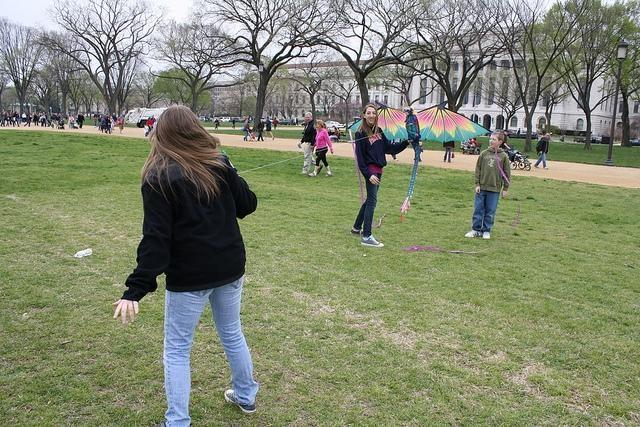car: (326, 121, 344, 128)
